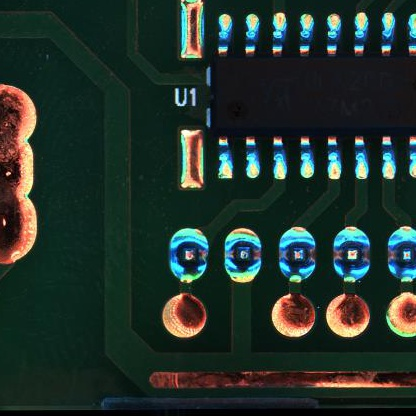spot: (276, 225, 316, 284), (224, 227, 261, 285), (169, 227, 207, 283), (333, 227, 370, 283), (386, 227, 416, 282)
